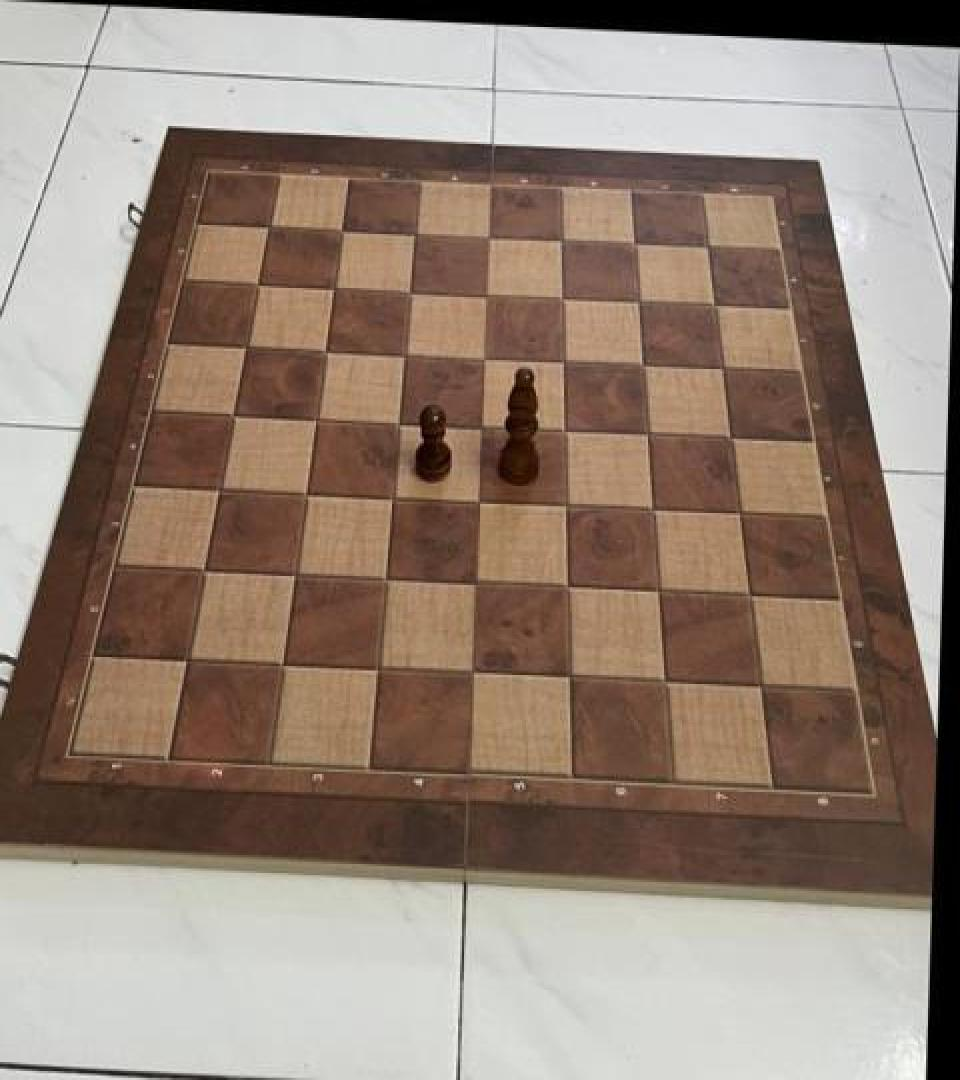xcorner: (390, 272, 424, 311), (688, 228, 722, 266), (614, 224, 648, 262), (541, 220, 575, 258), (468, 218, 502, 256), (395, 215, 429, 253), (323, 212, 357, 250), (251, 210, 285, 248), (695, 286, 729, 324), (618, 282, 652, 320), (542, 279, 576, 317), (466, 276, 500, 314), (315, 269, 349, 307), (240, 266, 274, 304), (702, 349, 736, 387), (622, 346, 656, 384), (542, 341, 576, 379), (463, 338, 497, 376), (384, 334, 418, 372), (306, 331, 340, 369), (227, 328, 261, 366), (709, 418, 743, 456), (626, 413, 660, 451), (543, 410, 577, 448), (460, 406, 494, 444), (378, 402, 412, 440), (296, 398, 330, 436), (214, 395, 248, 433), (718, 493, 752, 531), (631, 488, 665, 526), (544, 484, 578, 522), (457, 480, 491, 518), (371, 476, 405, 514), (286, 472, 320, 510), (200, 468, 234, 506), (727, 575, 761, 613), (636, 570, 670, 608), (545, 566, 579, 604), (454, 562, 488, 600), (364, 557, 398, 595), (274, 552, 308, 590), (184, 548, 218, 586), (738, 666, 772, 704), (641, 660, 675, 698), (546, 656, 580, 694), (450, 652, 484, 690), (356, 646, 390, 684), (261, 642, 295, 680), (167, 636, 201, 674)
